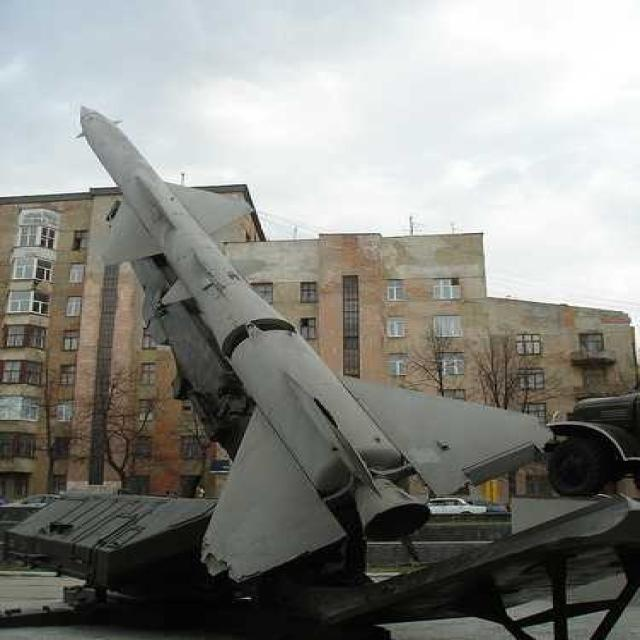missile: (74, 99, 538, 566)
